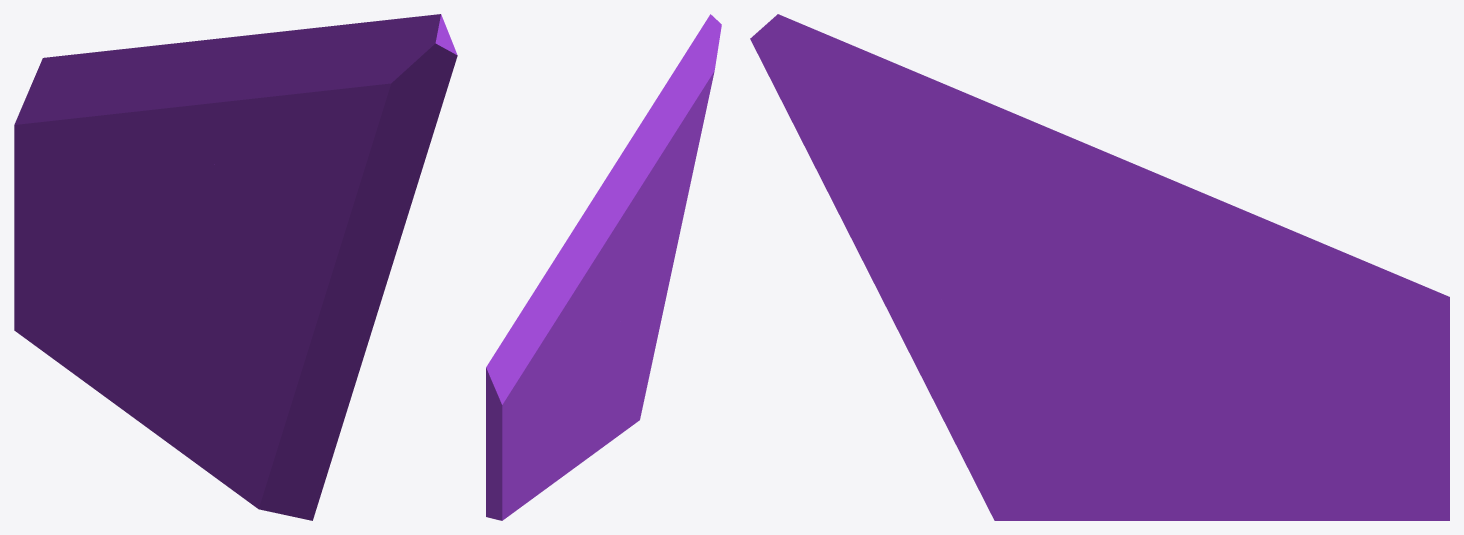
Rendered from Window_14_7_chunks.fbx.
3 renders of one model, left to right at view 1: azimuth 30°, elevation 25°; view 2: azimuth 150°, elevation 25°; view 3: azimuth 270°, elevation 25°, orthographic. The views are drawn at different scales.
Visible parts, largest first — view 1: Window_14_7_0, Window_14_7_3, Window_14_7_1, Window_14_7_2; view 2: Window_14_7_0, Window_14_7_3, Window_14_7_1, Window_14_7_2; view 3: Window_14_7_0, Window_14_7_3, Window_14_7_1.
Boxes of the visible parts, box(x1,y1,x2,y2) form: Window_14_7_0: box(14, 38, 219, 414); Window_14_7_3: box(202, 14, 457, 311); Window_14_7_1: box(129, 253, 377, 520); Window_14_7_2: box(174, 188, 265, 323); Window_14_7_0: box(486, 211, 617, 520); Window_14_7_3: box(585, 14, 721, 270); Window_14_7_1: box(567, 252, 675, 472); Window_14_7_2: box(592, 270, 643, 384); Window_14_7_0: box(1095, 171, 1449, 520); Window_14_7_3: box(750, 14, 1151, 304); Window_14_7_1: box(885, 285, 1263, 520).
Bounding box in the file's own units: 27.2 × 545 × 682.
